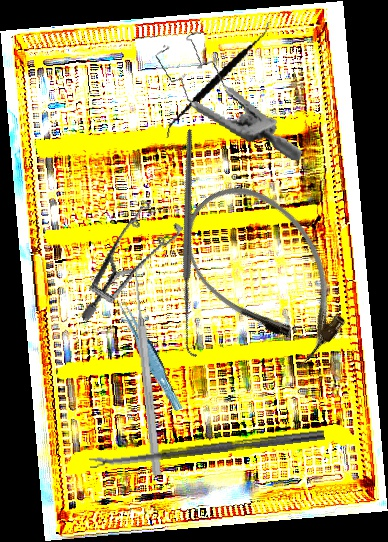Cannula: (162, 162, 371, 381)
Hook Surgical: (89, 127, 296, 359)
Pusher: (129, 266, 164, 477)
Spatula Surgical: (166, 5, 271, 155)
Speculum: (141, 24, 320, 162), (51, 190, 202, 322)
Surgical Spoon: (89, 428, 325, 469)
Tissue Forceps: (116, 294, 184, 416)
